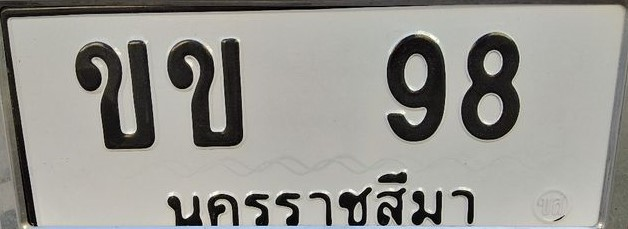txt02: (71, 36, 159, 153), (165, 34, 246, 149)
